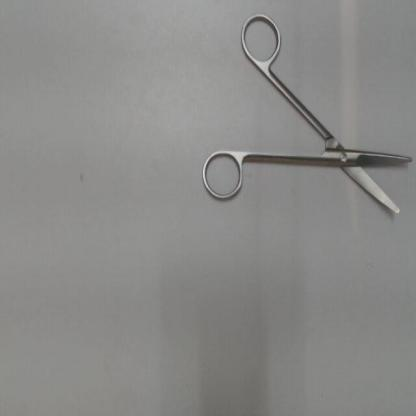Curved Mayo Scissors: (198, 7, 415, 224)
